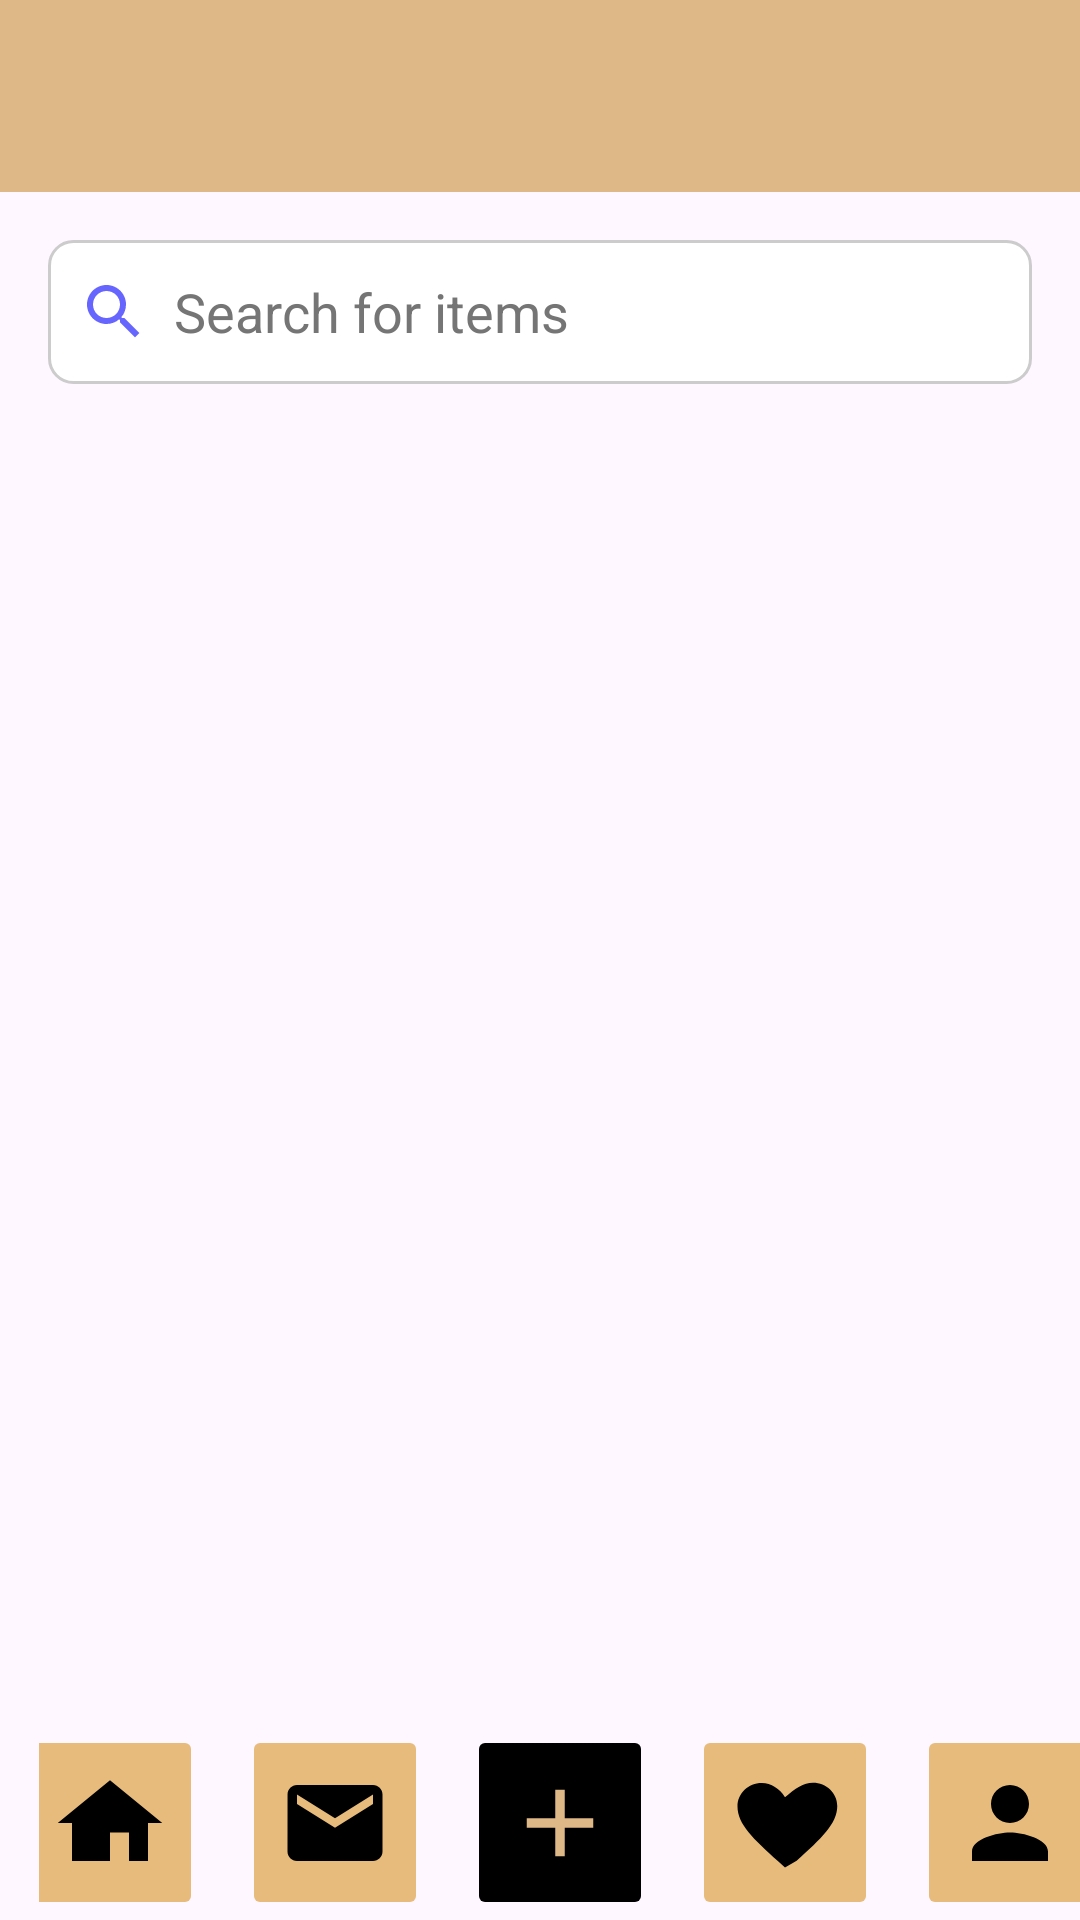

Where to tap for icons on this 1080px x 1920px app screen, as point (x, y):
chat: point (335, 1822)
home: point (115, 1822)
sell: point (560, 1822)
